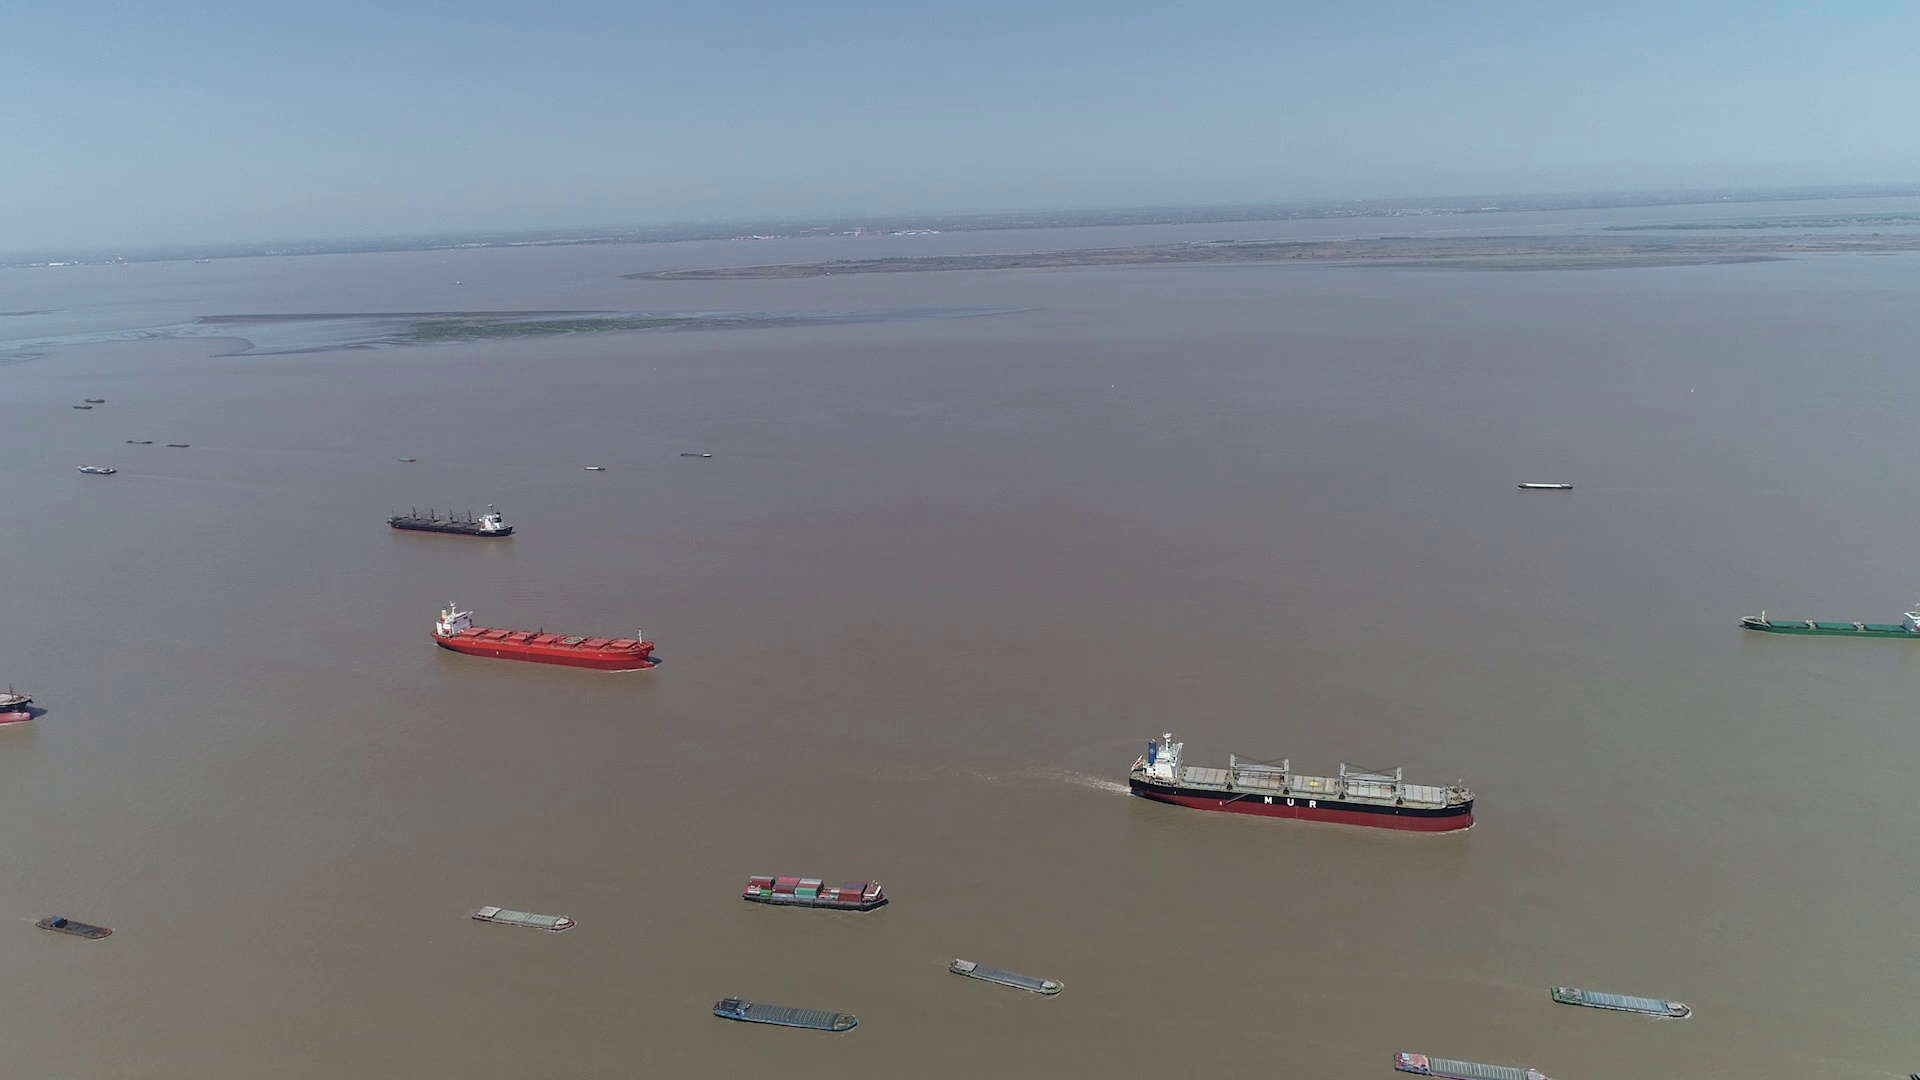ship: (1129, 735, 1474, 831), (434, 603, 655, 671), (1742, 607, 1919, 640), (711, 998, 861, 1035), (742, 876, 889, 913), (1549, 985, 1692, 1019), (1395, 1048, 1549, 1079), (389, 502, 516, 537), (949, 959, 1063, 996), (472, 902, 574, 928), (0, 684, 41, 729), (37, 915, 112, 939), (79, 463, 120, 475), (1518, 483, 1573, 491), (680, 450, 713, 458)
